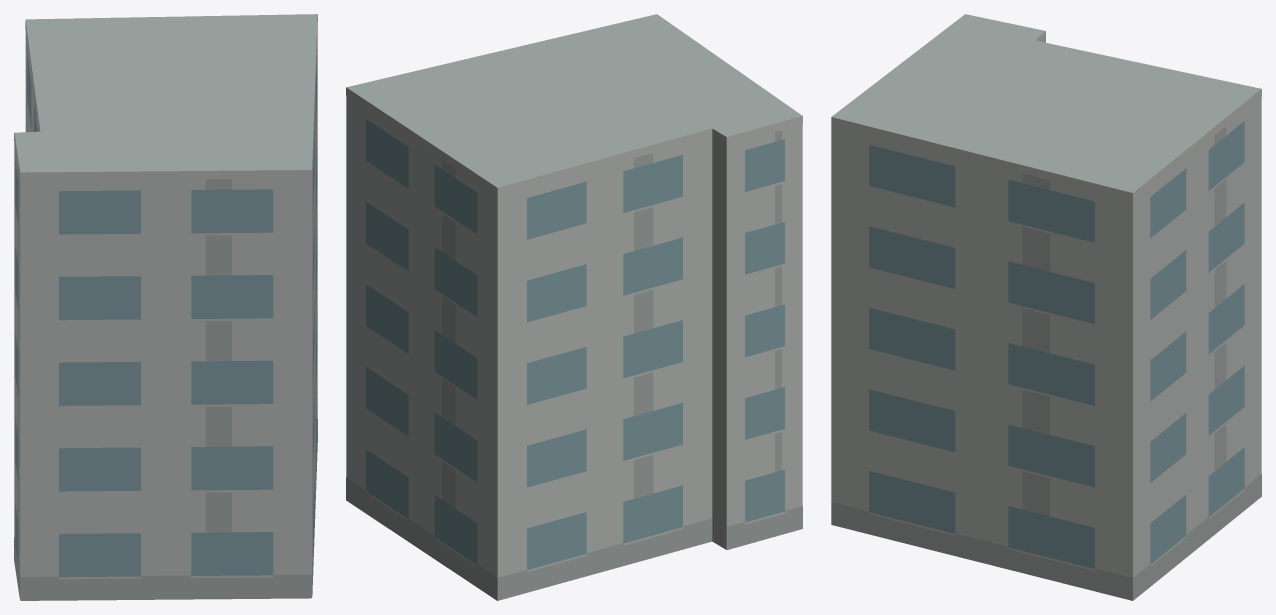
Rendered from survey-upis-33018720.glb.
3 views of the same model, side by side, from view 1: azimuth 30°, elevation 25°; view 2: azimuth 150°, elevation 25°; view 3: azimuth 270°, elevation 25° (orthographic). The views are drawn at different scales.
Visible parts, largest first — view 1: survey-upis-33018720.tmp; view 2: survey-upis-33018720.tmp; view 3: survey-upis-33018720.tmp.
Boxes of the visible parts, bbox=[...] form: survey-upis-33018720.tmp: bbox=[14, 14, 317, 600]; survey-upis-33018720.tmp: bbox=[346, 14, 802, 600]; survey-upis-33018720.tmp: bbox=[831, 14, 1261, 600].
Size of the model in its own units: 11.4 by 12.1 by 11.58.
